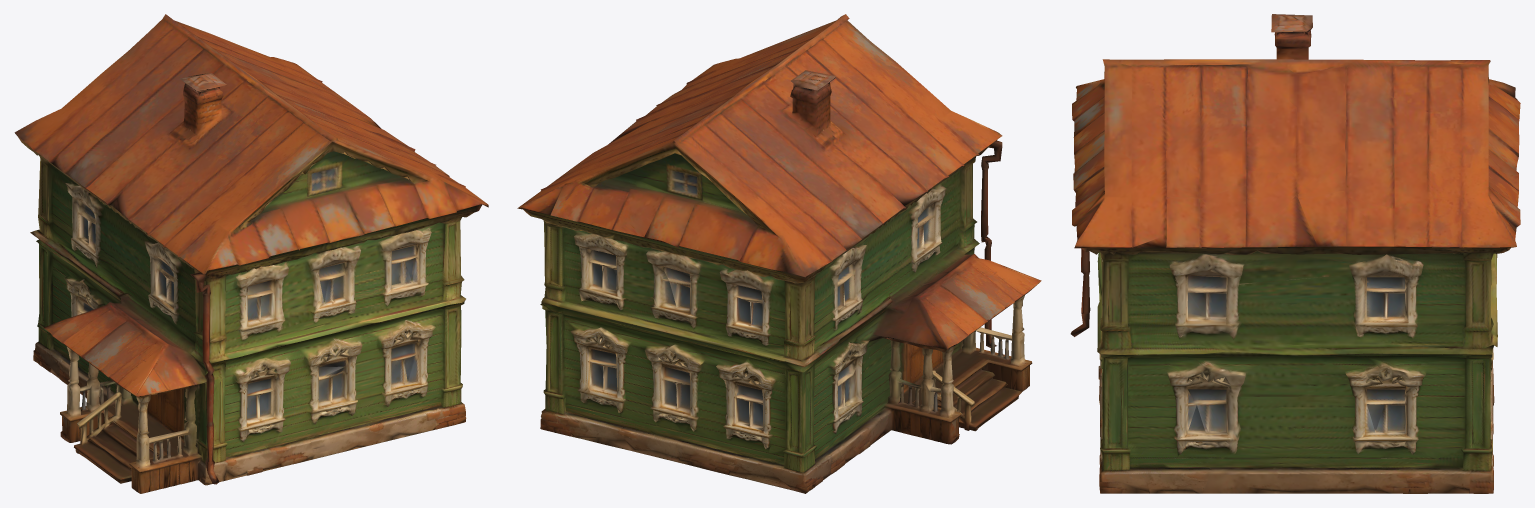
Rendered from house_sasha.glb.
3 renders of one model, left to right at view 1: azimuth 30°, elevation 25°; view 2: azimuth 150°, elevation 25°; view 3: azimuth 270°, elevation 25°, orthographic. The views are drawn at different scales.
Visible parts, largest first — view 1: tripo_node_1b410111-77fe-4071-a540-ad8731b2552b; view 2: tripo_node_1b410111-77fe-4071-a540-ad8731b2552b; view 3: tripo_node_1b410111-77fe-4071-a540-ad8731b2552b.
Part boxes in pixels (box(x1,y1,x2,y2)): tripo_node_1b410111-77fe-4071-a540-ad8731b2552b: box(14, 14, 488, 493); tripo_node_1b410111-77fe-4071-a540-ad8731b2552b: box(517, 14, 1041, 493); tripo_node_1b410111-77fe-4071-a540-ad8731b2552b: box(1070, 14, 1520, 493).
Bounding box in the file's own units: 0.9802 × 0.8959 × 0.9767.
Materials: 1 (1 with a texture image).
